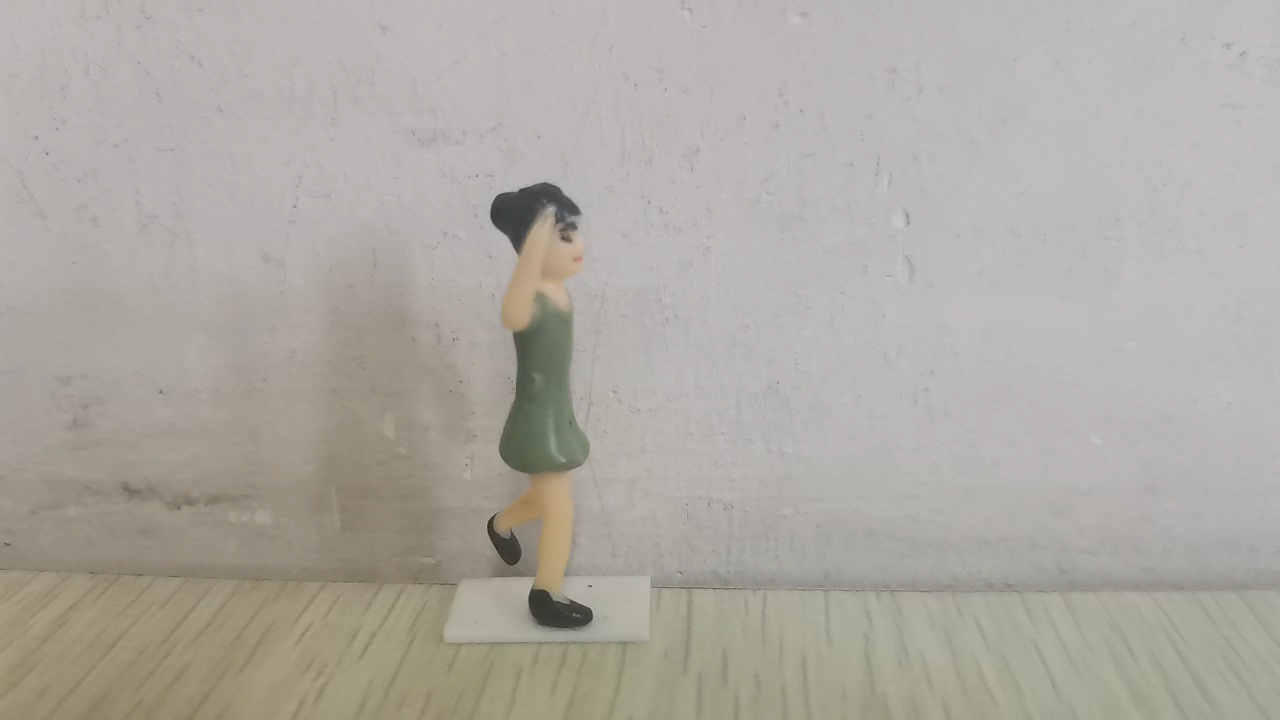person: (485, 180, 597, 632)
